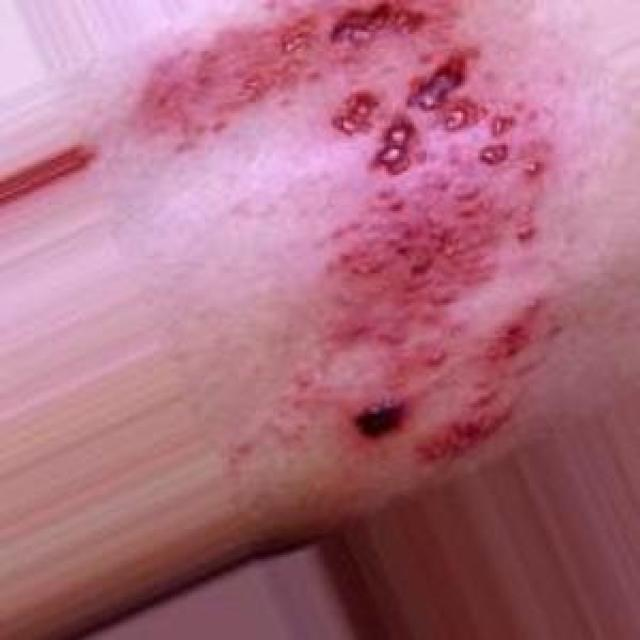Shingles: (291, 45, 551, 461), (135, 0, 463, 144)
